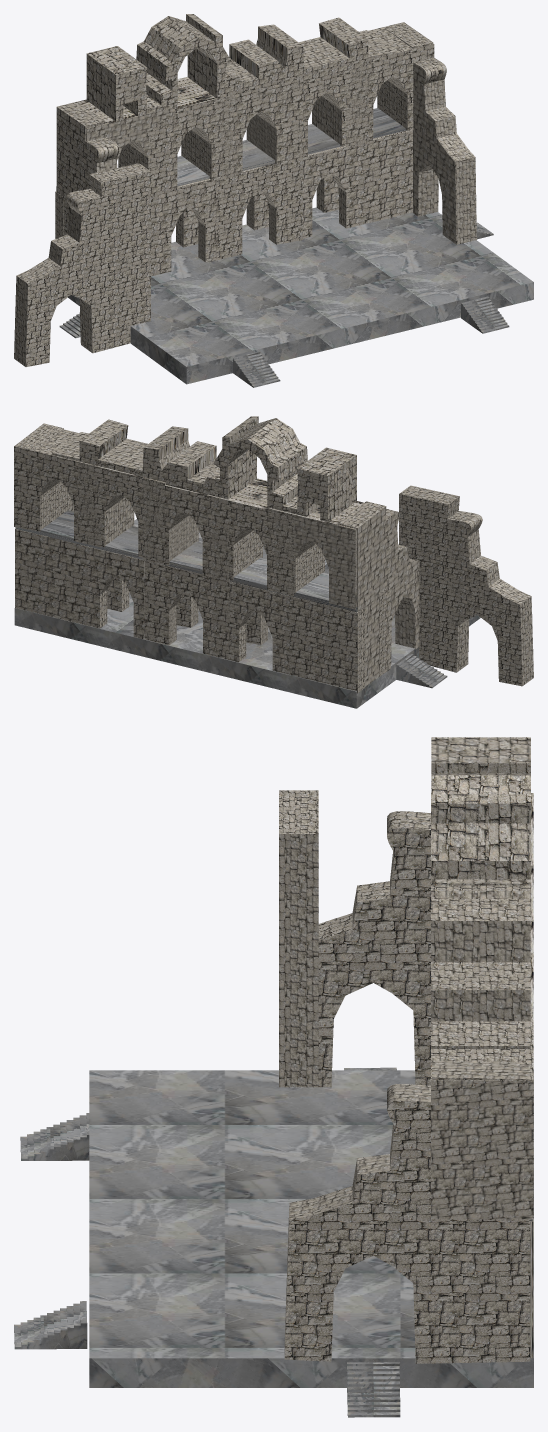
File: Amphitheater.FBX
3 views of the same model, one above another, from view 1: azimuth 30°, elevation 25°; view 2: azimuth 150°, elevation 25°; view 3: azimuth 270°, elevation 25° (orthographic). The views are drawn at different scales.
Visible parts, largest first — view 1: Box001, Line028, Line018, Line027, Line002, Line025, Line023, Line020, Line003, Line022, Line021, Line026 (+8 smaller); view 2: Line028, Box001, Line006, Line018, Line004, Line026, Line025, Line021, Line022, Line020, Line023, Line024 (+7 smaller); view 3: Box001, Line027, Line026, Line025, Line022, Line018, Line028, StraightStair003, StraightStair002, StraightStair001.
Boxes of the visible parts, left/top/right/bottom form: Box001: left=68, top=207, right=533, bottom=384; Line028: left=14, top=163, right=150, bottom=366; Line018: left=86, top=14, right=232, bottom=121; Line027: left=384, top=22, right=476, bottom=244; Line002: left=303, top=130, right=412, bottom=238; Line025: left=217, top=17, right=396, bottom=98; Line023: left=150, top=76, right=237, bottom=196; Line020: left=215, top=78, right=303, bottom=181; Line003: left=215, top=160, right=302, bottom=260; Line022: left=346, top=22, right=434, bottom=146; Line021: left=280, top=60, right=368, bottom=158; Line026: left=56, top=101, right=118, bottom=235; Line028: left=399, top=485, right=533, bottom=686; Box001: left=14, top=519, right=480, bottom=708; Line006: left=228, top=581, right=364, bottom=693; Line018: left=213, top=416, right=356, bottom=521; Line004: left=15, top=528, right=144, bottom=639; Line026: left=337, top=501, right=419, bottom=686; Line025: left=52, top=419, right=219, bottom=496; Line021: left=78, top=462, right=165, bottom=562; Line022: left=14, top=429, right=100, bottom=547; Line020: left=142, top=480, right=229, bottom=580; Line023: left=207, top=478, right=293, bottom=596; Line024: left=269, top=501, right=363, bottom=609; Box001: left=89, top=1070, right=533, bottom=1387; Line027: left=284, top=1060, right=530, bottom=1363; Line026: left=318, top=811, right=430, bottom=1087; Line025: left=431, top=876, right=530, bottom=1048; Line022: left=431, top=1007, right=533, bottom=1219; Line018: left=431, top=737, right=530, bottom=914; Line028: left=279, top=790, right=318, bottom=1087; StraightStair003: left=347, top=1362, right=400, bottom=1417; StraightStair002: left=14, top=1301, right=87, bottom=1349; StraightStair001: left=20, top=1113, right=89, bottom=1160.
Bounding box in the file's own units: 240 × 116 × 130.
2 materials, 2 textured.
